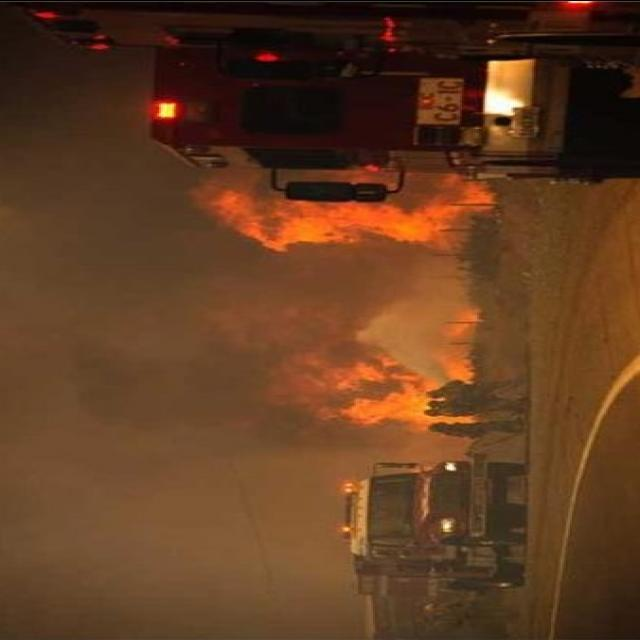Fire: (255, 322, 478, 438), (182, 170, 478, 248)
